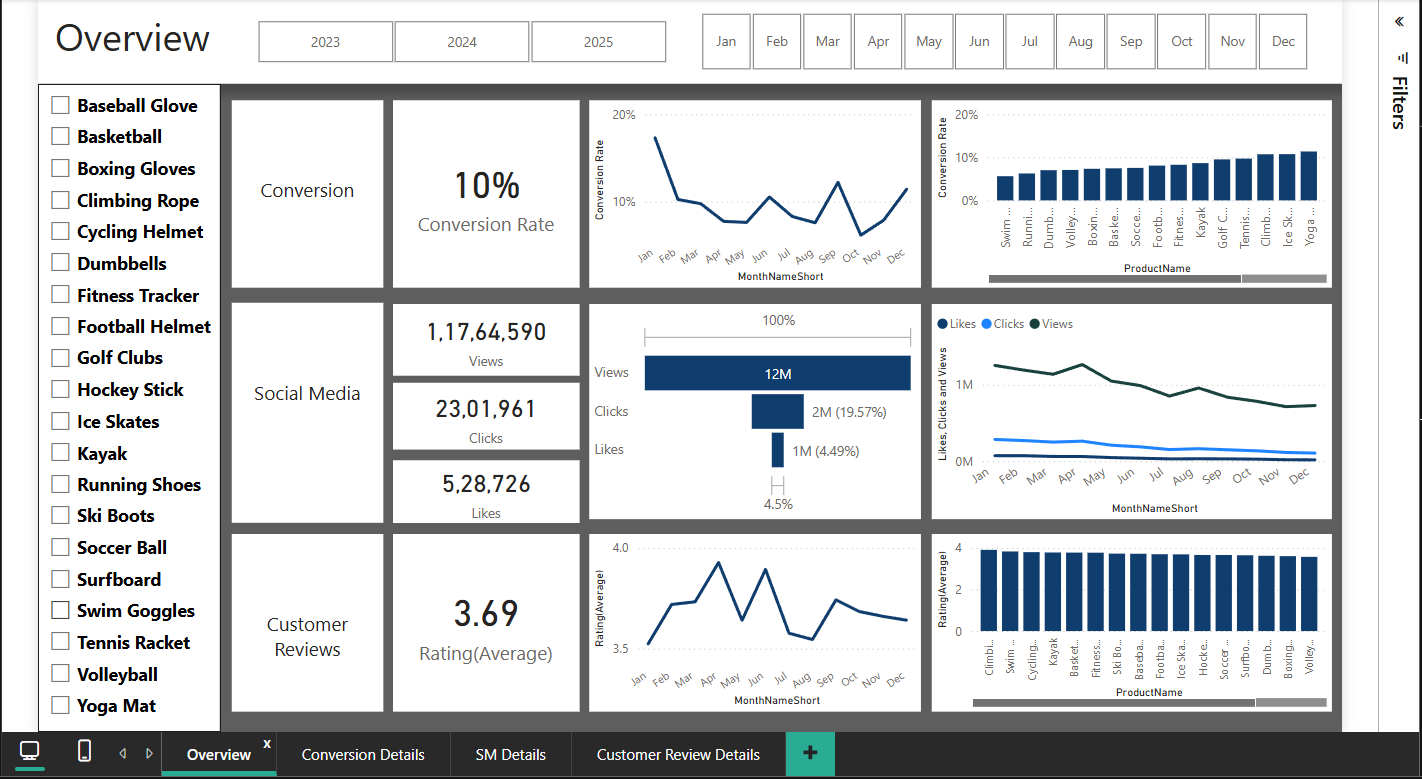

This screenshot's page, from the dashboard's own definition file:
{"tool":"powerbi","page":{"name":"Overview","canvas":[1280,720],"ordinal":0},"visuals":[{"type":"textbox","box":[0,0,1280,82.9],"z":0},{"type":"slicer","fields":{"Values":["SQLQ2(dim_prod).ProductName"]},"box":[0,82.9,178.6,637.1],"z":1000},{"type":"textbox","box":[190,100,148.6,184.3],"z":2000},{"type":"textbox","box":[190,298.6,148.6,215.7],"z":3000},{"type":"textbox","box":[190,525.7,148.6,174.3],"z":4000},{"type":"card","fields":{"Values":["_Calc.Likes"]},"box":[348.6,452.9,182.9,61.4],"z":5000},{"type":"card","fields":{"Values":["_Calc.Views"]},"box":[348.6,300,182.9,70],"z":6000},{"type":"card","fields":{"Values":["_Calc.Clicks"]},"box":[348.6,377.1,182.9,65.7],"z":7000},{"type":"card","fields":{"Values":["_Calc.Conversion Rate"]},"box":[348.6,100,182.9,184.3],"z":8000},{"type":"card","fields":{"Values":["_Calc.Rating(Average)"]},"box":[348.6,525.7,182.9,174.3],"z":9000},{"type":"slicer","fields":{"Values":["Calendar.MonthNameShort"]},"box":[625.7,7.1,644.3,68.6],"z":10000},{"type":"slicer","fields":{"Values":["Calendar.Date.Variation.Date Hierarchy.Year"]},"box":[190,14.3,450,54.3],"z":11000},{"type":"lineChart","fields":{"Y":["_Calc.Conversion Rate"],"Category":["Calendar.MonthNameShort"]},"box":[541.4,100,325.7,184.3],"z":12000},{"type":"columnChart","fields":{"Category":["SQLQ2(dim_prod).ProductName"],"Y":["_Calc.Conversion Rate"]},"box":[877.1,100,392.9,184.3],"z":13000},{"type":"lineChart","fields":{"Category":["Calendar.MonthNameShort"],"Y":["_Calc.Likes","_Calc.Clicks","_Calc.Views"]},"box":[877.1,300,392.9,211.4],"z":14000},{"type":"funnel","fields":{"Y":["_Calc.Views","_Calc.Clicks","_Calc.Likes"]},"box":[541.4,300,325.7,211.4],"z":15000},{"type":"clusteredColumnChart","fields":{"Category":["SQLQ2(dim_prod).ProductName"],"Y":["_Calc.Rating(Average)"]},"box":[877.1,525.7,392.9,174.3],"z":16000},{"type":"lineChart","fields":{"Category":["Calendar.MonthNameShort"],"Y":["_Calc.Rating(Average)"]},"box":[541.4,525.7,325.7,174.3],"z":17000}]}

Visuals, with their boxes in screenshot pixels (x1, y1, x2, y2):
textbox: 30/0/1345/78
slicer - SQLQ2(dim_prod).ProductName: 30/78/213/732
textbox: 225/95/377/285
textbox: 225/299/377/521
textbox: 225/533/377/712
card - _Calc.Likes: 388/458/576/521
card - _Calc.Views: 388/301/576/373
card - _Calc.Clicks: 388/380/576/448
card - _Calc.Conversion Rate: 388/95/576/285
card - _Calc.Rating(Average): 388/533/576/712
slicer - Calendar.MonthNameShort: 672/0/1334/70
slicer - Calendar.Date.Variation.Date Hierarchy.Year: 225/7/687/63
lineChart - _Calc.Conversion Rate x Calendar.MonthNameShort: 586/95/920/285
columnChart - SQLQ2(dim_prod).ProductName x _Calc.Conversion Rate: 931/95/1334/285
lineChart - Calendar.MonthNameShort x _Calc.Likes: 931/301/1334/518
funnel - _Calc.Views x _Calc.Clicks: 586/301/920/518
clusteredColumnChart - SQLQ2(dim_prod).ProductName x _Calc.Rating(Average): 931/533/1334/712
lineChart - Calendar.MonthNameShort x _Calc.Rating(Average): 586/533/920/712
